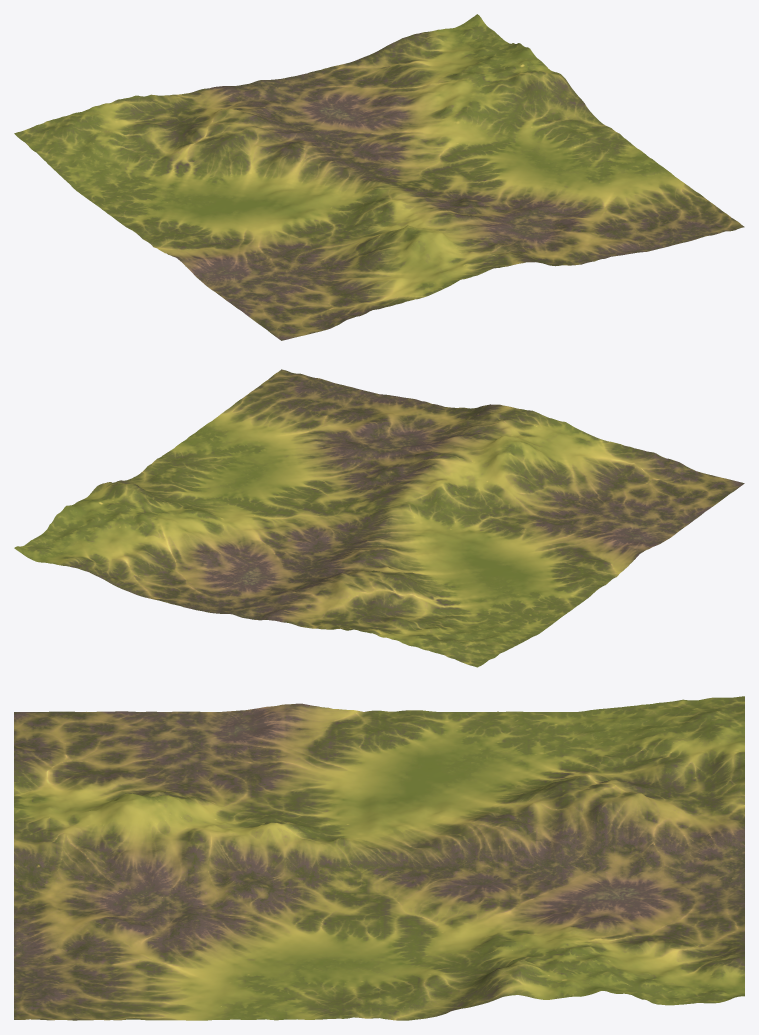
Rendered from terrain.gltf.
The picture shows the model from 3 angles, top to bottom: view 1: azimuth 30°, elevation 25°; view 2: azimuth 150°, elevation 25°; view 3: azimuth 270°, elevation 25°; orthographic projection. The views are drawn at different scales.
Parts seen in each view (by area): view 1: Channelled_land_01_TerrainMesh; view 2: Channelled_land_01_TerrainMesh; view 3: Channelled_land_01_TerrainMesh.
Part boxes in pixels (box(x1,y1,x2,y2)): Channelled_land_01_TerrainMesh: box(14, 14, 744, 340); Channelled_land_01_TerrainMesh: box(14, 369, 744, 667); Channelled_land_01_TerrainMesh: box(14, 696, 744, 1020).
Bounding box in the file's own units: 16000 × 973 × 16000.
